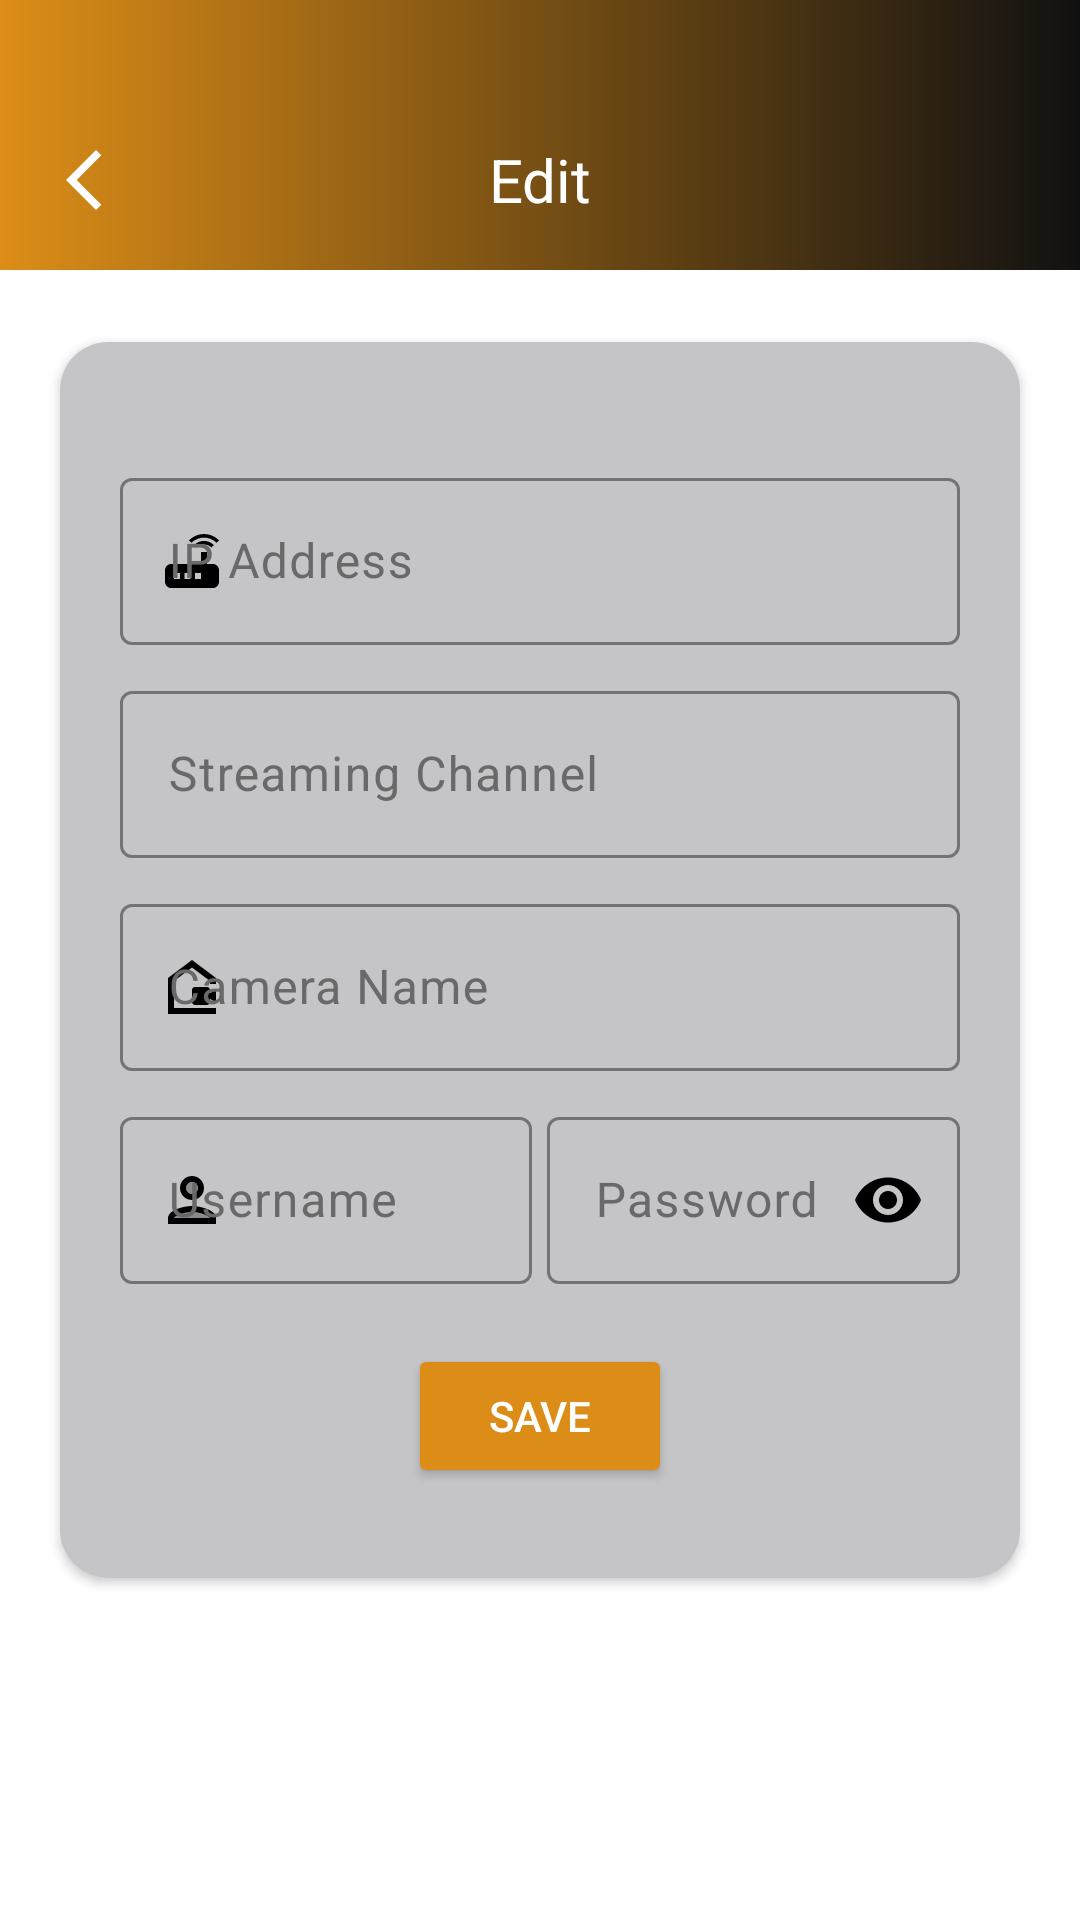

Screen size 1080×1920. Icon name, then its center in pixels as [x,y]:
back: [83,180]
